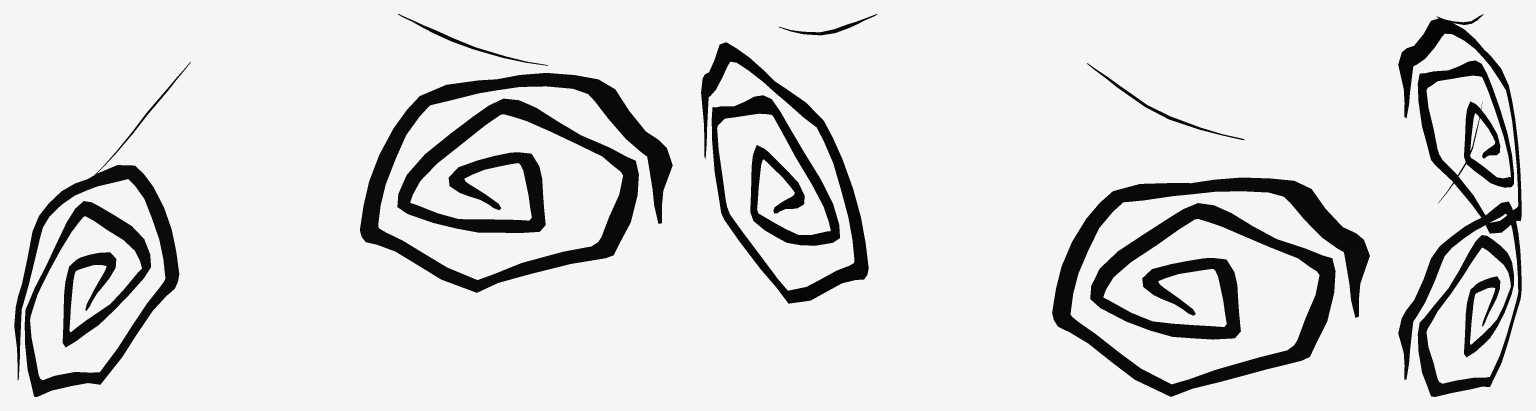
Rendered from 31-Cute-Dizziness-Overwhelmed-face-eyes.glb.
The picture shows the model from 3 angles, left to right: view 1: azimuth 30°, elevation 25°; view 2: azimuth 150°, elevation 25°; view 3: azimuth 270°, elevation 25°; orthographic projection. The views are drawn at different scales.
Visible parts, largest first — view 1: 31-Cute-Dizziness-Overwhelmed-face-eyes; view 2: 31-Cute-Dizziness-Overwhelmed-face-eyes; view 3: 31-Cute-Dizziness-Overwhelmed-face-eyes.
Boxes of the visible parts, x1,y1,x2,y2 form: 31-Cute-Dizziness-Overwhelmed-face-eyes: (14, 14, 672, 396); 31-Cute-Dizziness-Overwhelmed-face-eyes: (701, 14, 1369, 396); 31-Cute-Dizziness-Overwhelmed-face-eyes: (1398, 14, 1521, 396).
Size of the model in its own units: 0.9292 by 0.4109 by 0.1806.
Materials: 4 (4 with a texture image).
